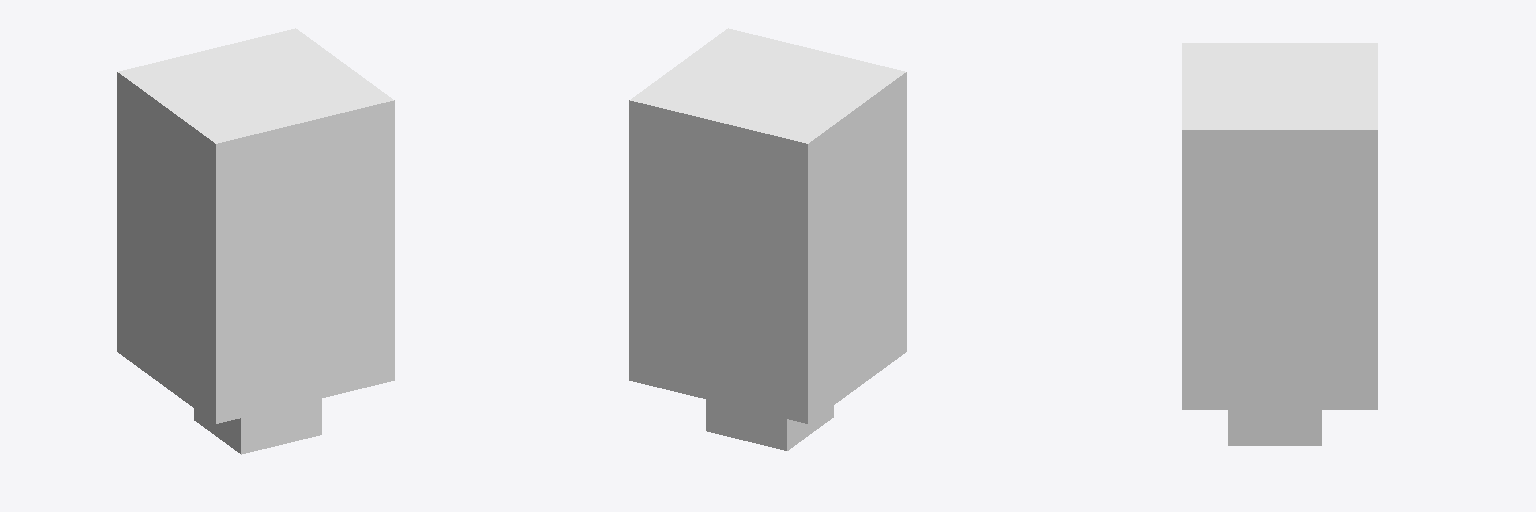
Rendered from pacmantree.obj.
3 renders of one model, left to right at view 1: azimuth 30°, elevation 25°; view 2: azimuth 150°, elevation 25°; view 3: azimuth 270°, elevation 25°, orthographic.
Visible parts, largest first — view 1: object 1; view 2: object 1; view 3: object 1.
Boxes of the visible parts, x1,y1,x2,y2 form: object 1: [117, 28, 394, 454]; object 1: [629, 28, 906, 450]; object 1: [1182, 43, 1377, 445].
Size of the model in its own units: 2.2 by 4 by 2.1.